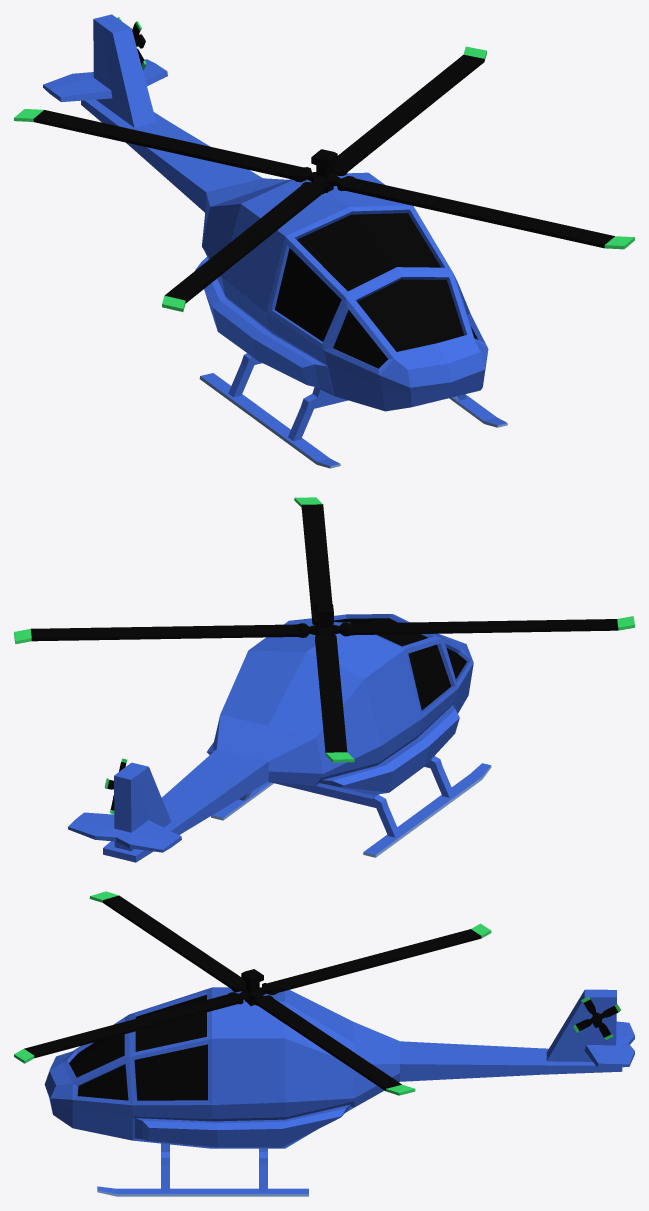
The model's file is Helicopter.fbx.
3 views of the same model, one above another, from view 1: azimuth 30°, elevation 25°; view 2: azimuth 150°, elevation 25°; view 3: azimuth 270°, elevation 25° (orthographic). The views are drawn at different scales.
Parts seen in each view (by area): view 1: Helicopter, HEliRot; view 2: Helicopter, HEliRot; view 3: Helicopter, HEliRot, HeliRotS.
Part boxes in pixels (x1,y1,x2,y2): Helicopter: (43, 14, 507, 468); HEliRot: (14, 46, 634, 311); Helicopter: (68, 614, 491, 862); HEliRot: (14, 497, 634, 762); Helicopter: (44, 987, 634, 1196); HEliRot: (14, 891, 491, 1095); HeliRotS: (573, 997, 620, 1039).
Size of the model in its own units: 622 by 271 by 810.
